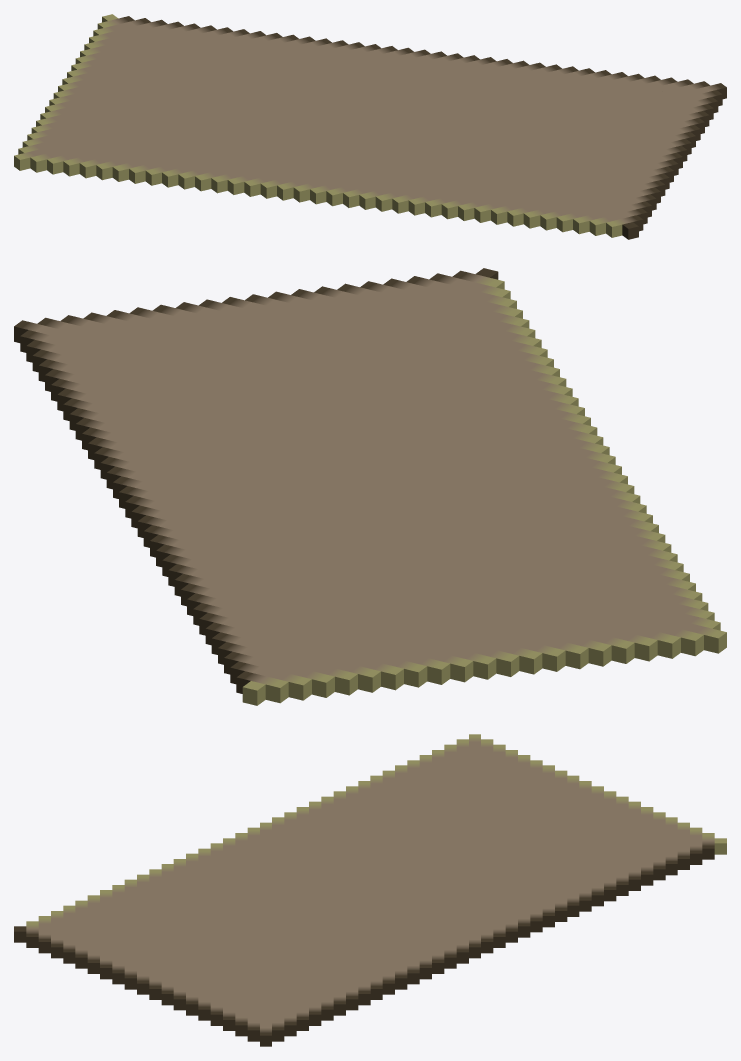
File: tentplank3.fbx
3 views of the same model, one above another, from view 1: azimuth 30°, elevation 25°; view 2: azimuth 150°, elevation 25°; view 3: azimuth 270°, elevation 25° (orthographic). The views are drawn at different scales.
Parts seen in each view (by area): view 1: tentplank3; view 2: tentplank3; view 3: tentplank3.
Boxes of the visible parts, x1,y1,x2,y2 form: tentplank3: [14, 14, 726, 239]; tentplank3: [14, 268, 726, 705]; tentplank3: [14, 734, 726, 1046].
Bounding box in the file's own units: 58 × 1 × 58.
Materials: 1 (1 with a texture image).
